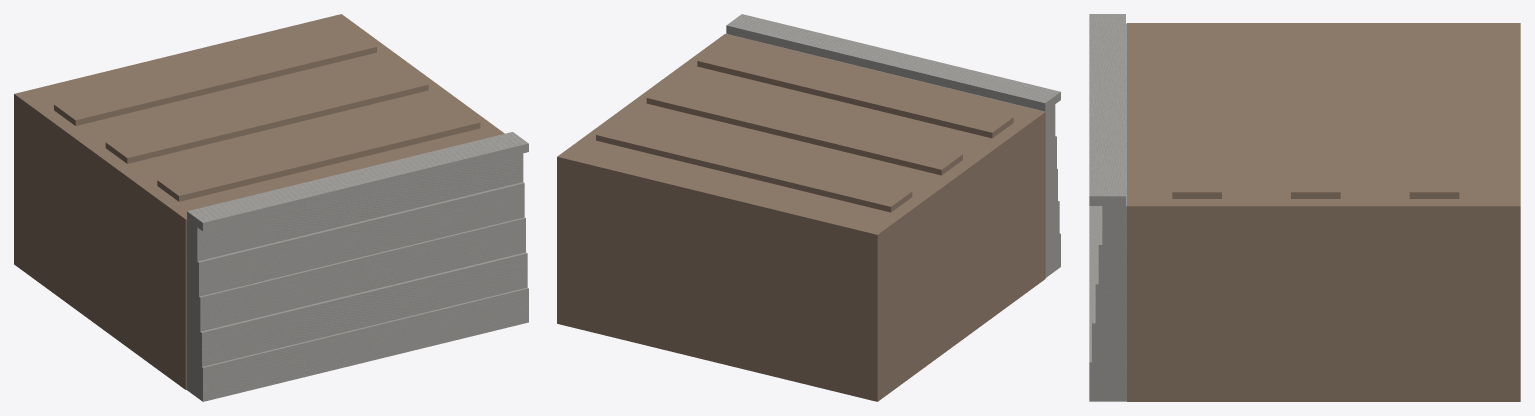
File: andean-terraces-and-stone-village-terrace-wall-high-54f771ed.glb
The picture shows the model from 3 angles, left to right: view 1: azimuth 30°, elevation 25°; view 2: azimuth 150°, elevation 25°; view 3: azimuth 270°, elevation 25°; orthographic projection. The views are drawn at different scales.
Parts seen in each view (by area): view 1: terrace-wall-high-earth, terrace-wall-high-stone; view 2: terrace-wall-high-earth, terrace-wall-high-stone; view 3: terrace-wall-high-earth, terrace-wall-high-stone.
Part boxes in pixels (box(x1,y1,x2,y2)): terrace-wall-high-earth: box(14, 14, 504, 389); terrace-wall-high-stone: box(186, 132, 528, 401); terrace-wall-high-earth: box(557, 34, 1045, 401); terrace-wall-high-stone: box(726, 14, 1060, 277); terrace-wall-high-earth: box(1127, 23, 1520, 401); terrace-wall-high-stone: box(1089, 14, 1126, 401).
Bounding box in the file's own units: 4.02 × 2.1 × 4.
2 materials, 1 textured.
